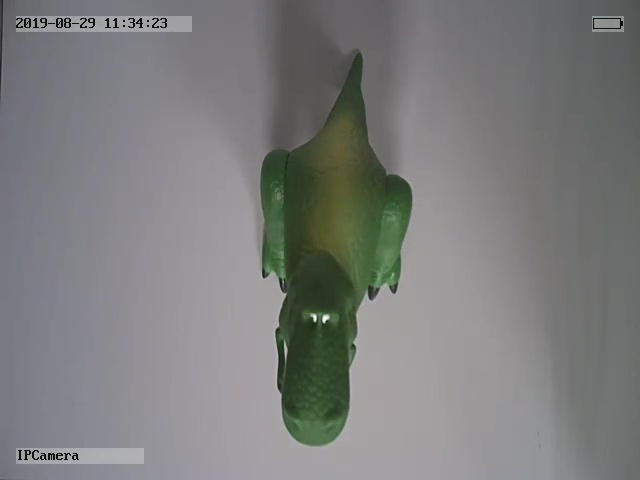rex: (257, 49, 413, 444)
